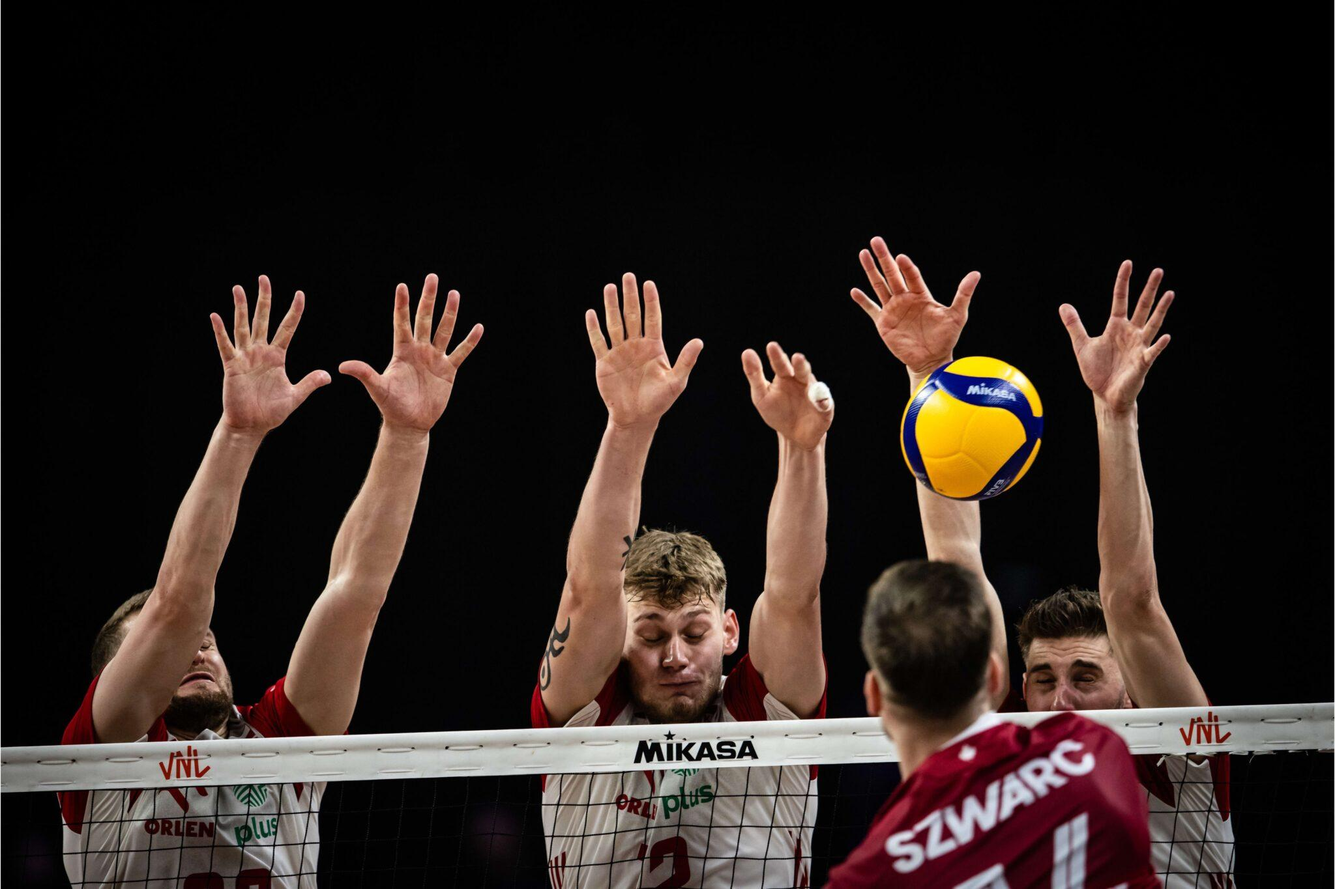ballon_volley: (897, 354, 1044, 503)
